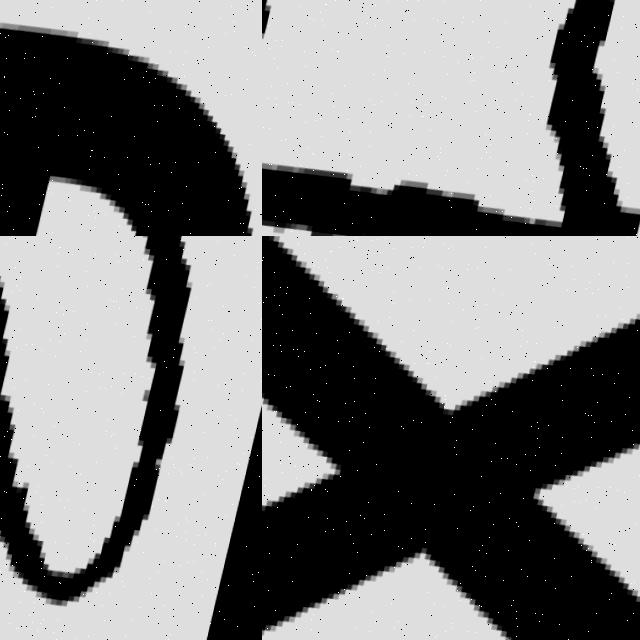1: (262, 0, 640, 236)
3: (0, 236, 259, 640)
E: (0, 37, 250, 236)
X: (262, 236, 640, 640)
